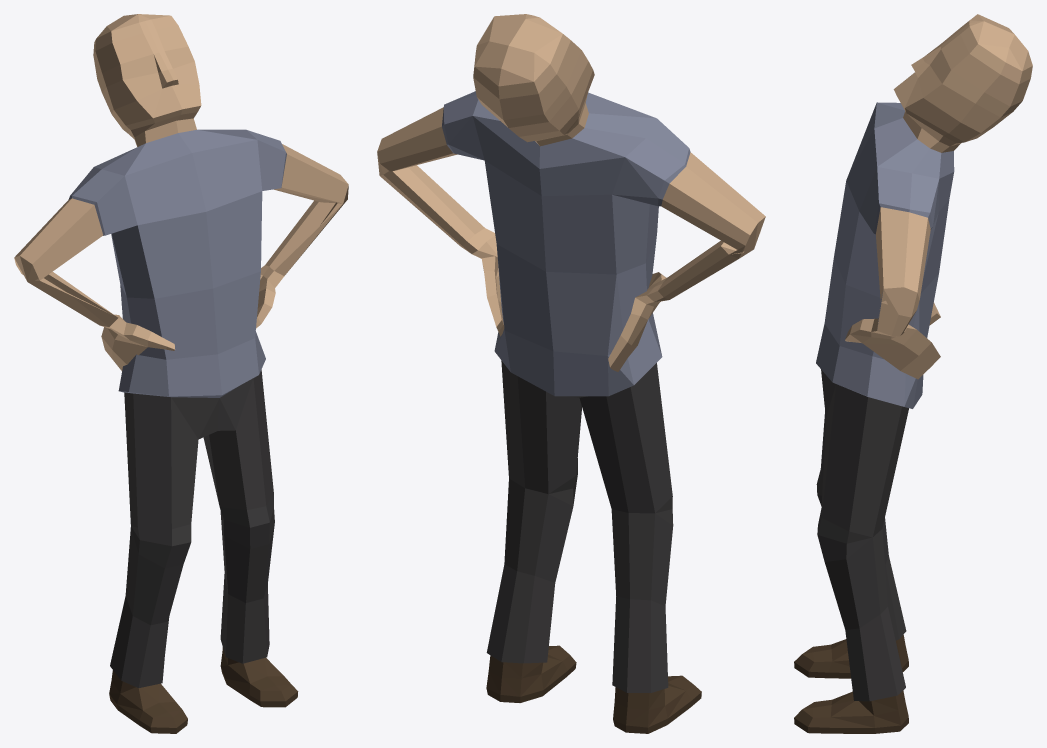
The model's file is Male_LookingUp.glb.
3 views of the same model, side by side, from view 1: azimuth 30°, elevation 25°; view 2: azimuth 150°, elevation 25°; view 3: azimuth 270°, elevation 25° (orthographic). The views are drawn at different scales.
Visible parts, largest first — view 1: Looking_Up; view 2: Looking_Up; view 3: Looking_Up.
Boxes of the visible parts, bbox=[...] form: Looking_Up: bbox=[14, 14, 348, 733]; Looking_Up: bbox=[377, 14, 765, 733]; Looking_Up: bbox=[794, 14, 1032, 733].
Bounding box in the file's own units: 1.99 × 3.69 × 1.18.
